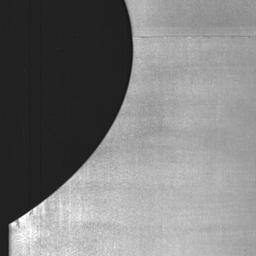Crescent gap: (9, 0, 133, 223)
